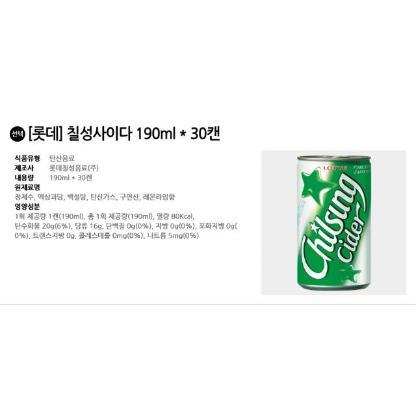Can: (296, 152, 372, 290)
